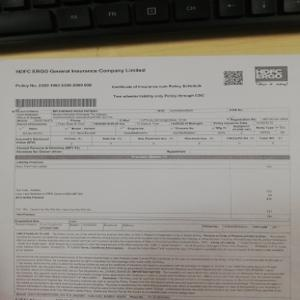image: (254, 62, 290, 83)
table: (14, 158, 292, 231), (12, 107, 292, 154)
text: (13, 256, 293, 296), (14, 230, 291, 253), (14, 66, 147, 75), (11, 80, 96, 91), (110, 83, 205, 92), (113, 93, 205, 102)
